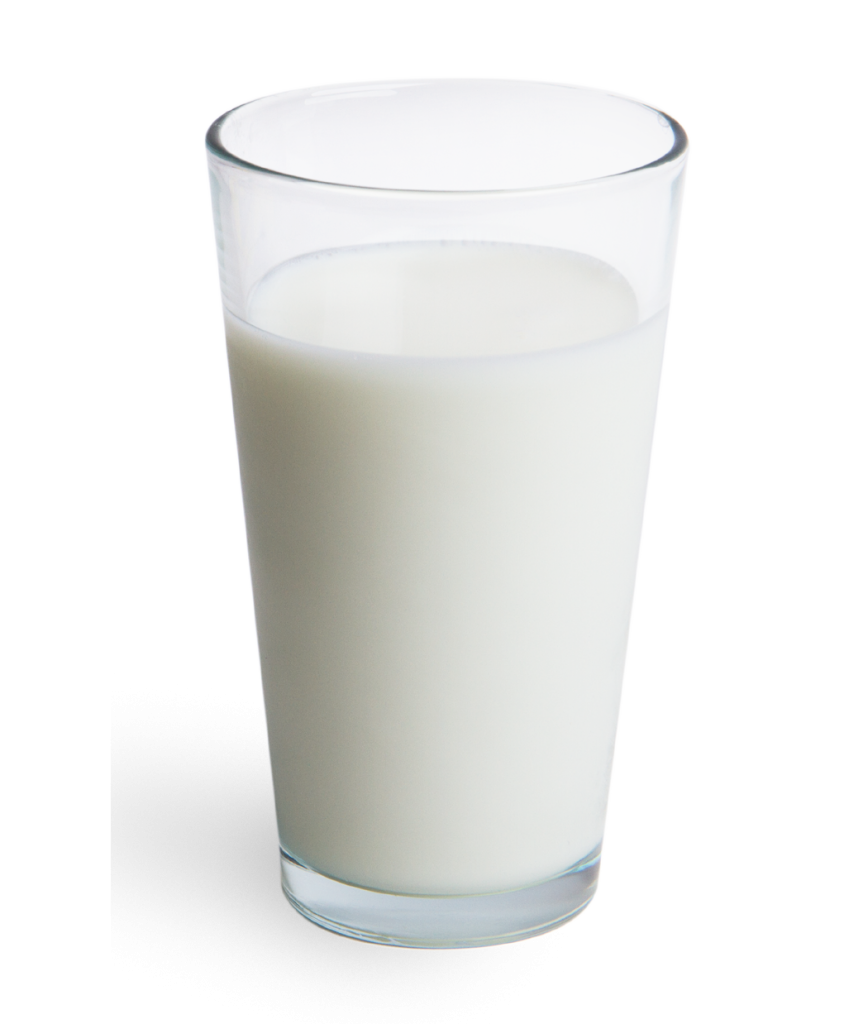glass of milk: (238, 134, 636, 918)
